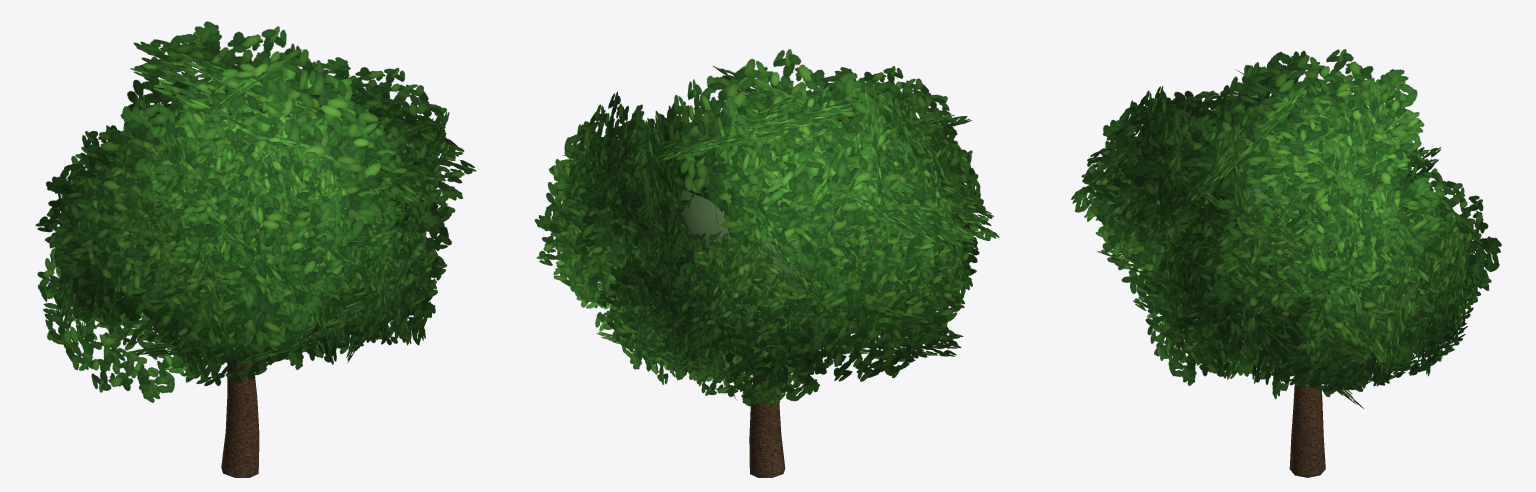
File: arvore_1.glb
3 renders of one model, left to right at view 1: azimuth 30°, elevation 25°; view 2: azimuth 150°, elevation 25°; view 3: azimuth 270°, elevation 25°, orthographic. The views are drawn at different scales.
Visible parts, largest first — view 1: folhas, casca; view 2: folhas, casca, miolo; view 3: folhas, casca.
Boxes of the visible parts, left/top/right/bottom form: folhas: left=35, top=21, right=476, bottom=402; casca: left=221, top=347, right=259, bottom=477; folhas: left=534, top=49, right=999, bottom=406; casca: left=749, top=361, right=785, bottom=477; miolo: left=678, top=156, right=835, bottom=277; folhas: left=1071, top=49, right=1501, bottom=409; casca: left=1289, top=300, right=1325, bottom=477.
Size of the model in its own units: 19.73 by 17.44 by 17.93.
3 materials, 2 textured.
